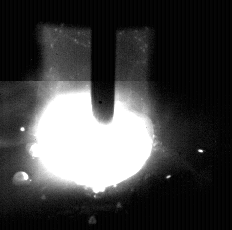arame: (91, 0, 117, 124)
poca: (32, 0, 155, 230)
